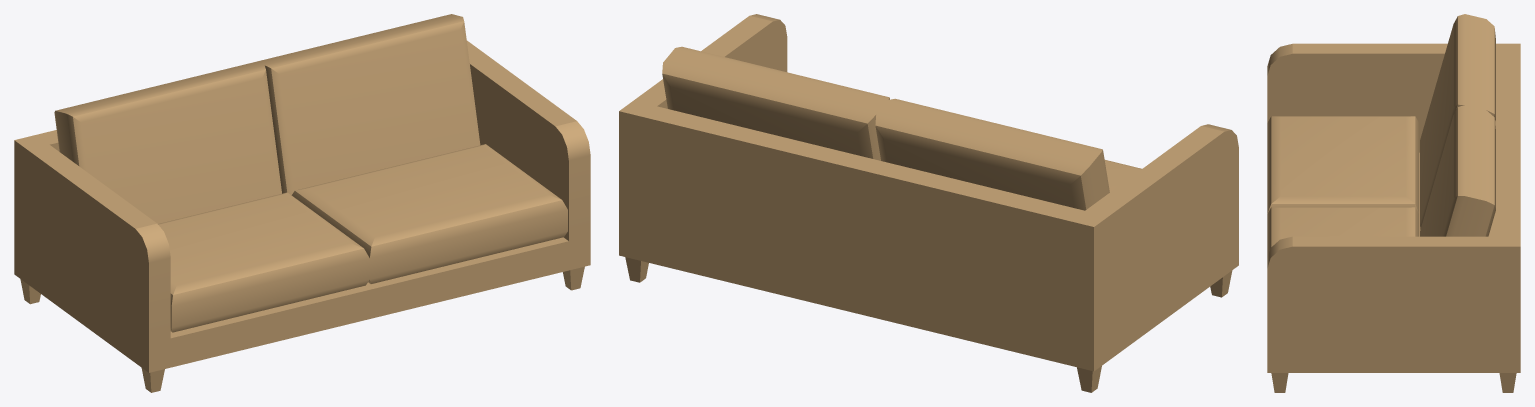
File: couch.fbx
3 views of the same model, side by side, from view 1: azimuth 30°, elevation 25°; view 2: azimuth 150°, elevation 25°; view 3: azimuth 270°, elevation 25° (orthographic). The views are drawn at different scales.
Visible parts, largest first — view 1: couch; view 2: couch; view 3: couch.
Boxes of the visible parts, bbox=[...] form: couch: bbox=[14, 14, 590, 392]; couch: bbox=[619, 14, 1238, 392]; couch: bbox=[1267, 14, 1520, 392].
Bounding box in the file's own units: 37.88 × 16.49 × 20.
